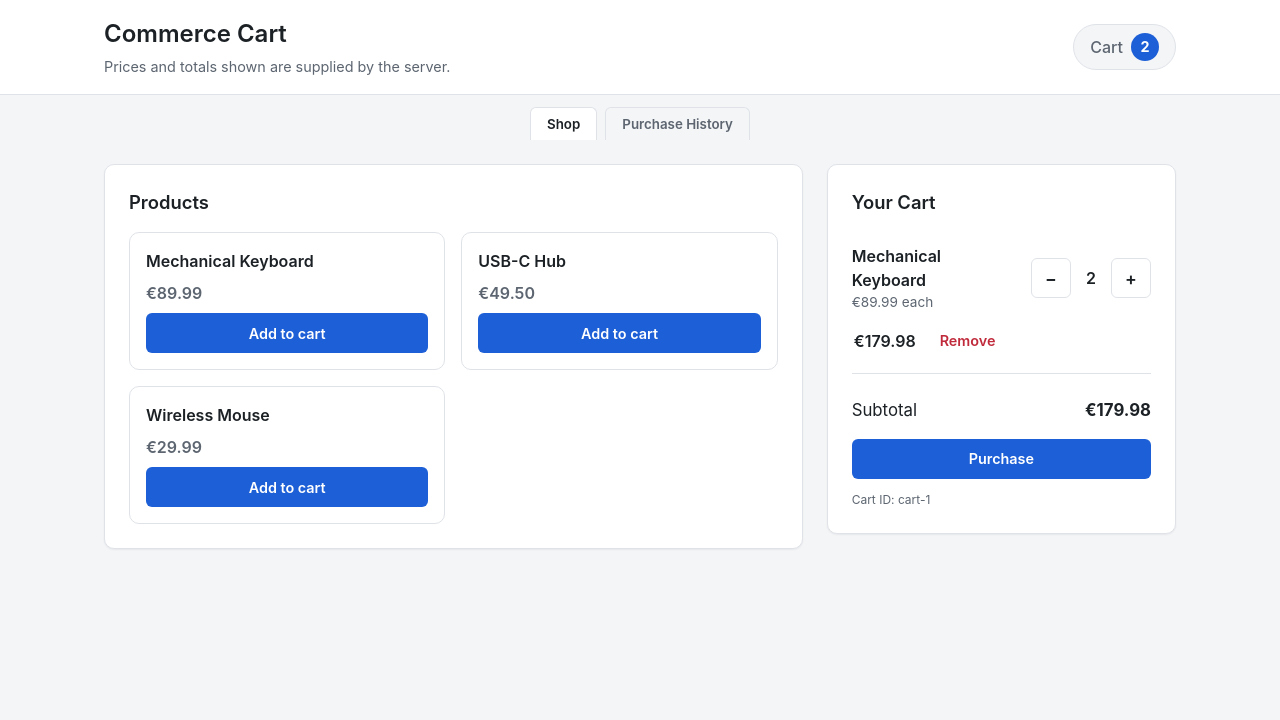
Scenario: Purchase and Purchase History › shows a confirmation and the server-returned empty Cart with the same ID after a successful purchase
The width and height of the screenshot is (1280, 720).
Expected: the text "Mechanical Keyboard" is shown, x1=852 y1=246 x2=941 y2=290
Click the button "Purchase" at (1001, 459), box x1=852 y1=439 x2=1151 y2=479
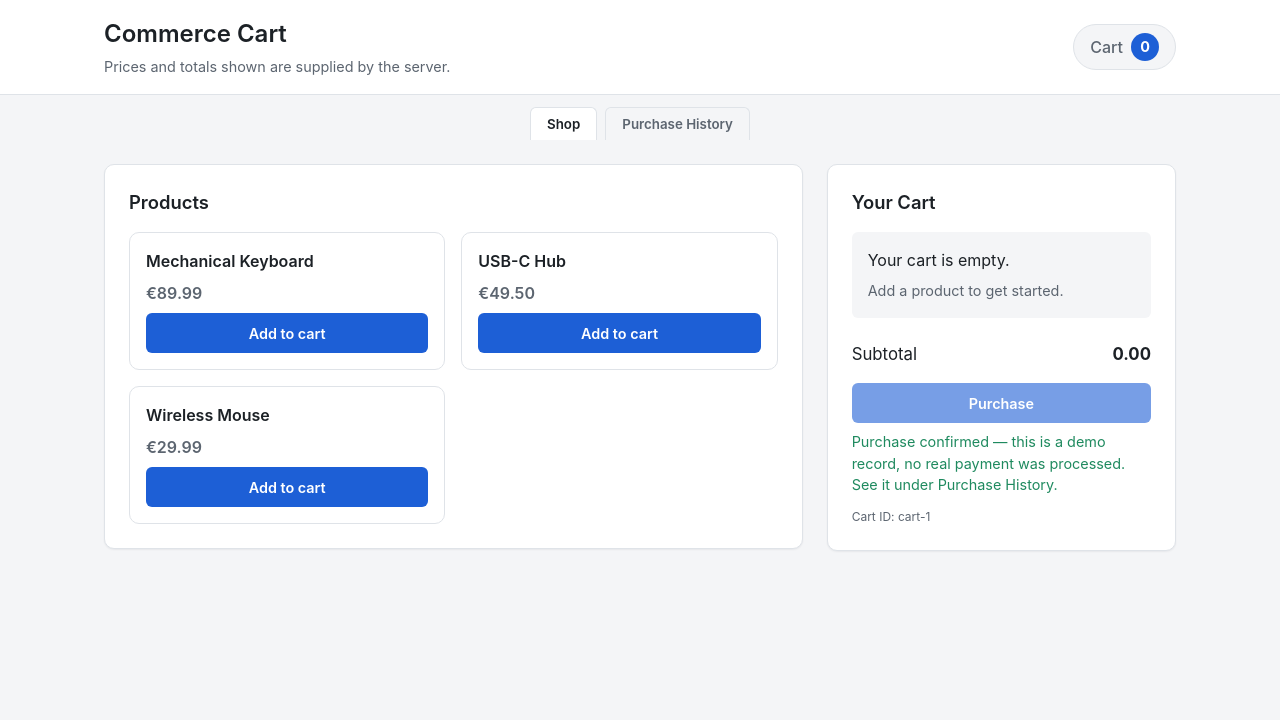
Now the text "Purchase confirmed" is shown, box x1=852 y1=433 x2=1125 y2=493
Now the text "Your cart is empty." is shown, box x1=868 y1=248 x2=1010 y2=272
